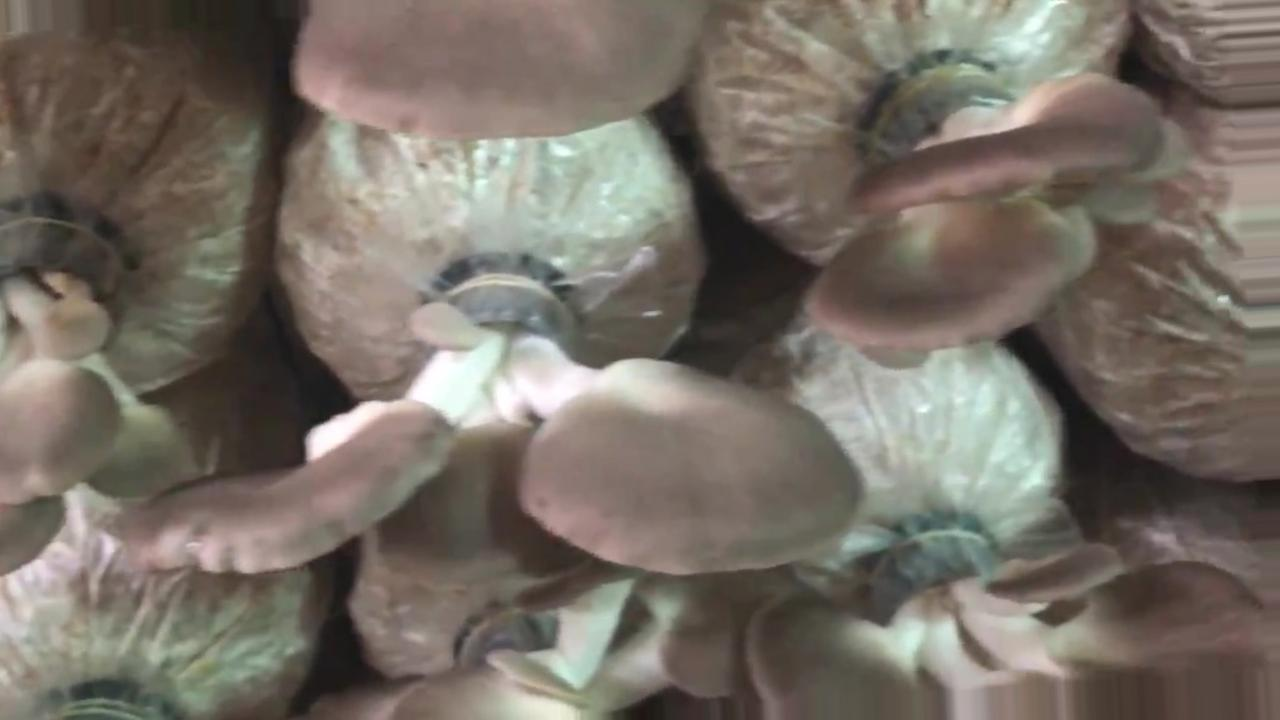nam: (124, 259, 864, 581), (803, 38, 1161, 366), (742, 503, 1274, 720), (1, 189, 199, 511), (295, 1, 709, 148)
